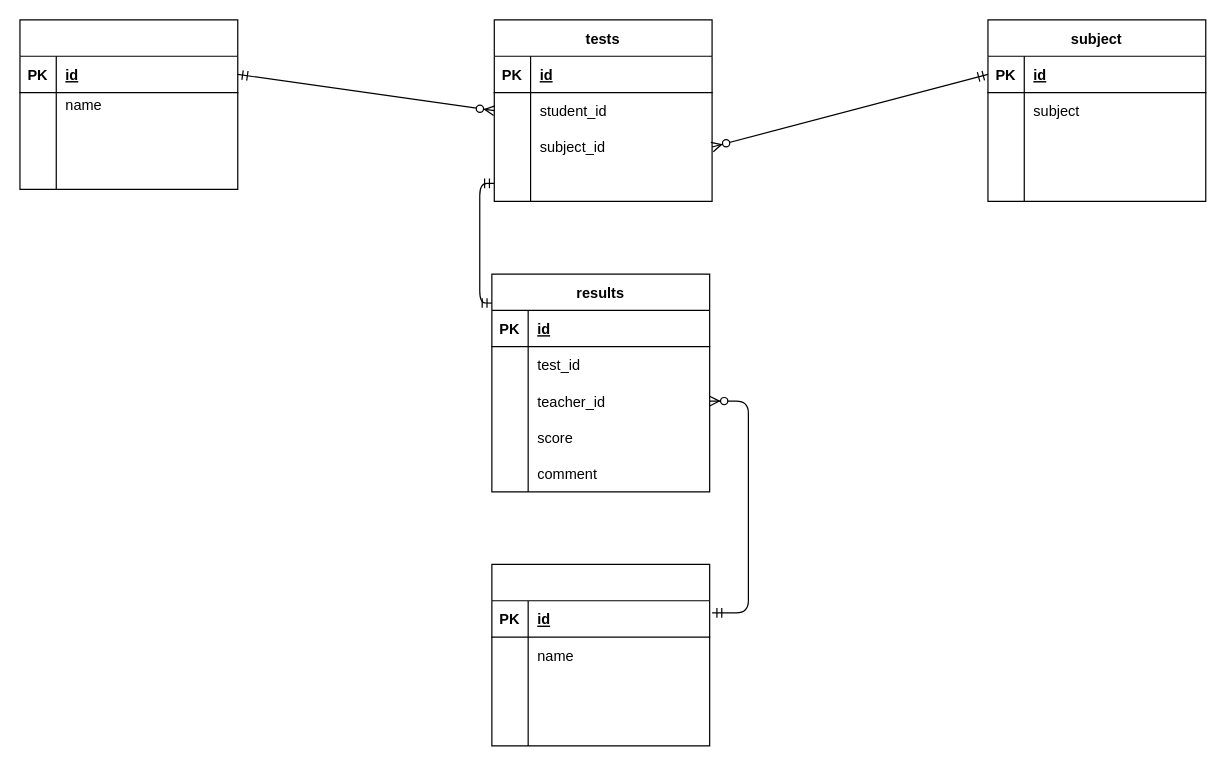
The diagram is 1226 pixels wide and 766 high, and some of its shapes have lost their labels. The shapes that lost their labels are listed below. From the top down, each one's box as (x1, y1, x2, y2) in pixels, then its label:
(19, 19, 238, 189): students
(491, 563, 710, 746): teachers
